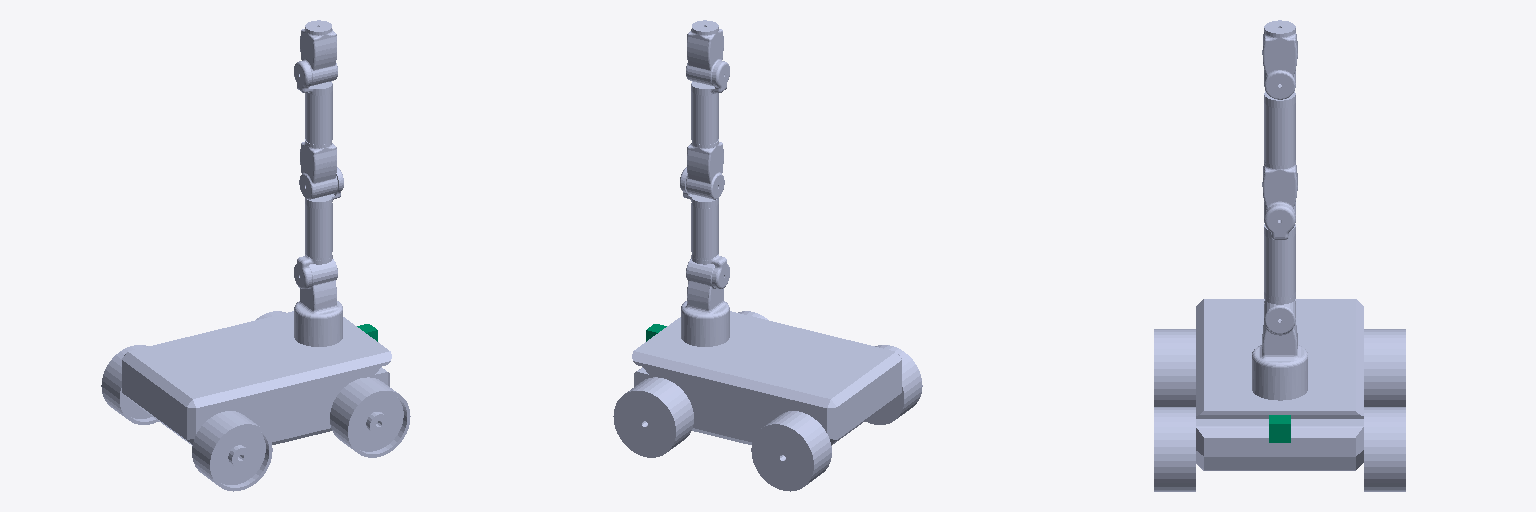
The robot description file, URDF, robot "mobile_manipulator":
<?xml version="1.0"?>

<robot name="mobile_manipulator">
<!--################################# BASE #####################################-->
  <link name="base_link">
    <inertial>
      <origin
        xyz="0.0030946 4.78250032638821E-11 0.053305"
        rpy="0 0 0" />
      <mass
        value="47.873" />
      <inertia
        ixx="0.774276574699151"
        ixy="-1.03781944357671E-10"
        ixz="0.00763014265820928"
        iyy="1.64933255189991"
        iyz="1.09578155845563E-12"
        izz="2.1239326987473" />
    </inertial>
    <visual>
      <origin
        xyz="0 0 0"
        rpy="1.5707963267949 0 3.14" />
      <geometry>
        <mesh filename="package://robot_description/meshes/robot_base.stl" />
      </geometry>
      <material
        name="">
        <color
          rgba="0.79216 0.81961 0.93333 1" />
      </material>
    </visual>
    <collision>
      <origin
        xyz="0 0 0"
        rpy="1.5707963267949 0 3.14" />
      <geometry>
        <mesh filename="package://robot_description/meshes/robot_base.stl" />
      </geometry>
    </collision>
  </link>

<link name="front_left_wheel">
    <inertial>
      <origin
        xyz="-4.1867E-18 0.0068085 -1.65658661799998E-18"
        rpy="0 0 0" />
      <mass
        value="2.6578" />
      <inertia
        ixx="0.00856502765719703"
        ixy="1.5074118157338E-19"
        ixz="-4.78150098725052E-19"
        iyy="0.013670640432096"
        iyz="-2.68136447099727E-19"
        izz="0.00856502765719703" />
    </inertial>
    <visual>
      <origin
        xyz="0 0 0"
        rpy="1.5707963267949 0 0" />
      <geometry>
        <mesh filename="package://robot_description/meshes/wheel.stl" />
      </geometry>
      <material
        name="">
        <color
          rgba="0.79216 0.81961 0.93333 1" />
      </material>
    </visual>
    <collision>
      <origin
        xyz="0 0 0"
        rpy="1.5707963267949 0 0" />
      <geometry>
        <mesh filename="package://robot_description/meshes/wheel.stl" />
      </geometry>
    </collision>
  </link>

<link name="front_right_wheel">
    <inertial>
      <origin
        xyz="-4.1867E-18 0.0068085 -1.65658661799998E-18"
        rpy="0 0 0" />
      <mass
        value="2.6578" />
      <inertia
        ixx="0.00856502765719703"
        ixy="1.5074118157338E-19"
        ixz="-4.78150098725052E-19"
        iyy="0.013670640432096"
        iyz="-2.68136447099727E-19"
        izz="0.00856502765719703" />
    </inertial>
    <visual>
      <origin
        xyz="0 0 0"
        rpy="1.5707963267949 0 0" />
      <geometry>
        <mesh filename="package://robot_description/meshes/wheel.stl" />
      </geometry>
      <material
        name="">
        <color
          rgba="0.79216 0.81961 0.93333 1" />
      </material>
    </visual>
    <collision>
      <origin
        xyz="0 0 0"
        rpy="1.5707963267949 0 0" />
      <geometry>
        <mesh filename="package://robot_description/meshes/wheel.stl" />
      </geometry>
    </collision>
  </link>

<link name="rear_left_wheel">
    <inertial>
      <origin
        xyz="-4.1867E-18 0.0068085 -1.65658661799998E-18"
        rpy="0 0 0" />
      <mass
        value="2.6578" />
      <inertia
        ixx="0.00856502765719703"
        ixy="1.5074118157338E-19"
        ixz="-4.78150098725052E-19"
        iyy="0.013670640432096"
        iyz="-2.68136447099727E-19"
        izz="0.00856502765719703" />
    </inertial>
    <visual>
      <origin
        xyz="0 0 0"
        rpy="1.5707963267949 0 0" />
      <geometry>
        <mesh filename="package://robot_description/meshes/wheel.stl" />
      </geometry>
      <material
        name="">
        <color
          rgba="0.79216 0.81961 0.93333 1" />
      </material>
    </visual>
    <collision>
      <origin
        xyz="0 0 0"
        rpy="1.5707963267949 0 0" />
      <geometry>
        <mesh filename="package://robot_description/meshes/wheel.stl" />
      </geometry>
    </collision>
  </link>

<link name="rear_right_wheel">
    <inertial>
      <origin
        xyz="-4.1867E-18 0.0068085 -1.65658661799998E-18"
        rpy="0 0 0" />
      <mass
        value="2.6578" />
      <inertia
        ixx="0.00856502765719703"
        ixy="1.5074118157338E-19"
        ixz="-4.78150098725052E-19"
        iyy="0.013670640432096"
        iyz="-2.68136447099727E-19"
        izz="0.00856502765719703" />
    </inertial>
    <visual>
      <origin
        xyz="0 0 0"
        rpy="1.5707963267949 0 0" />
      <geometry>
        <mesh filename="package://robot_description/meshes/wheel.stl" />
      </geometry>
      <material
        name="">
        <color
          rgba="0.79216 0.81961 0.93333 1" />
      </material>
    </visual>
    <collision>
      <origin
        xyz="0 0 0"
        rpy="1.5707963267949 0 0" />
      <geometry>
        <mesh filename="package://robot_description/meshes/wheel.stl" />
      </geometry>
    </collision>
  </link>


<joint name="front_left_wheel_joint" type="continuous">
    <axis xyz="0 1 0"/>
    <parent link ="base_link"/>
    <child link ="front_left_wheel"/>
    <origin rpy ="0 0 0" xyz= "0.220 0.250 0"/>
  </joint>


<joint name="front_right_wheel_joint" type="continuous">
    <axis xyz="0 1 0"/>
    <parent link ="base_link"/>
    <child link ="front_right_wheel"/>
    <origin rpy ="0 0 0" xyz= "0.220 -0.250 0"/>
  </joint>

<joint name="rear_left_wheel_joint" type="continuous">
    <axis xyz="0 1 0"/>
    <parent link ="base_link"/>
    <child link ="rear_left_wheel"/>
    <origin rpy ="0 0 0" xyz= "-0.220 0.250 0"/>
  </joint>

<joint name="rear_right_wheel_joint" type="continuous">
    <axis xyz="0 1 0"/>
    <parent link ="base_link"/>
    <child link ="rear_right_wheel"/>
    <origin rpy ="0 0 0" xyz= "-0.220 -0.250 0"/>
</joint>
<!--############################## ARM ########################################-->

 <link name="arm_base">
    <inertial>
      <origin
        xyz="7.7128E-09 -0.063005 -3.01969999961422E-08"
        rpy="0 0 0" />
      <mass
        value="1.6004" />
      <inertia
        ixx="0.00552196561445819"
        ixy="7.9550614501301E-10"
        ixz="-1.34378458924839E-09"
        iyy="0.00352397447953875"
        iyz="-1.10071809773382E-08"
        izz="0.00553739792746489" />
    </inertial>
    <visual>
      <origin
        xyz="0 0 0"
        rpy="0 0 0" />
      <geometry>
        <mesh filename="package://robot_description/meshes/arm_base.stl" />
      </geometry>
      <material
        name="">
        <color
          rgba="0.79216 0.81961 0.93333 1" />
      </material>
    </visual>
    <collision>
      <origin
        xyz="0 0 0"
        rpy="0 0 0" />
      <geometry>
        <mesh filename="package://robot_description/meshes/arm_base.stl" />
      </geometry>
    </collision>
</link>

<link
    name="bicep">
    <inertial>
      <origin
        xyz="0.12821 3.5589E-06 0.052492"
        rpy="0 0 0" />
      <mass
        value="1.1198" />
      <inertia
        ixx="0.0012474"
        ixy="-5.4004E-07"
        ixz="-0.0013148"
        iyy="0.0072923"
        iyz="-1.8586E-07"
        izz="0.0068178" />
    </inertial>
    <visual>
      <origin
        xyz="0 0 0"
        rpy="0 -1.5708 0" />
      <geometry>
        <mesh filename="package://robot_description/meshes/bicep.stl" />
      </geometry>
      <material
        name="">
        <color
          rgba="0.79216 0.81961 0.93333 1" />
      </material>
    </visual>
    <collision>
      <origin
        xyz="0 0 0"
        rpy="0 -1.5708 0" />
      <geometry>
        <mesh filename="package://robot_description/meshes/bicep.stl" />
      </geometry>
    </collision>
  </link>


  <link
    name="bottom_wrist">
    <inertial>
      <origin
        xyz="-9.1053E-08 -0.069257 -1.86629999995759E-07"
        rpy="0 0 0" />
      <mass
        value="0.27721" />
      <inertia
        ixx="0.00104290750143942"
        ixy="4.37155302268076E-09"
        ixz="-2.45049603914627E-09"
        iyy="0.000380518373895034"
        iyz="-7.56009835172156E-09"
        izz="0.00106006525067445" />
    </inertial>
    <visual>
      <origin
        xyz="0 0 0.13522"
        rpy="3.14 0 1.5708" />
      <geometry>
        <mesh filename="package://robot_description/meshes/wrist.stl" />
      </geometry>
      <material
        name="">
        <color
          rgba="0.79216 0.81961 0.93333 1" />
      </material>
    </visual>
    <collision>
      <origin
        xyz="0 0 0.13522"
        rpy="3.14 0 1.5708" />
      <geometry>
        <mesh filename="package://robot_description/meshes/wrist.stl" />
      </geometry>
    </collision>
  </link>

 <link
    name="elbow">
    <inertial>
      <origin
        xyz="-0.11109 1.1476E-08 0.046469"
        rpy="0 0 0" />
      <mass
        value="0.84845" />
      <inertia
        ixx="0.00079656"
        ixy="-7.8011E-10"
        ixz="0.00053616"
        iyy="0.003576"
        iyz="4.6326E-10"
        izz="0.0033698" />
    </inertial>
    <visual>
      <origin
        xyz="0.0 0.05163 0.20994"
        rpy="0 -1.5708 0" />
      <geometry>
        <mesh filename="package://robot_description/meshes/elbow.stl" />
      </geometry>
      <material
        name="">
        <color
          rgba="0.79216 0.81961 0.93333 1" />
      </material>
    </visual>
    <collision>
      <origin
        xyz="0.0 0.05163 0.20994"
        rpy="0 -1.5708 0" />
      <geometry>
        <mesh filename="package://robot_description/meshes/elbow.stl" />
      </geometry>
    </collision>
  </link>

<link
    name="top_wrist">
    <inertial>
      <origin
        xyz="-9.1053E-08 -0.069257 -1.86629999995759E-07"
        rpy="0 0 0" />
      <mass
        value="0.27721" />
      <inertia
        ixx="0.00104290750143942"
        ixy="4.37155302268076E-09"
        ixz="-2.45049603914627E-09"
        iyy="0.000380518373895034"
        iyz="-7.56009835172156E-09"
        izz="0.00106006525067445" />
    </inertial>
    <visual>
      <origin
        xyz="0 0 0.13522"
        rpy="3.14 0 1.5708" />
      <geometry>
        <mesh filename="package://robot_description/meshes/wrist.stl" />
      </geometry>
      <material
        name="">
        <color
          rgba="0.79216 0.81961 0.93333 1" />
      </material>
    </visual>
    <collision>
      <origin
        xyz="0 0 0.13522"
        rpy="3.14 0 1.5708" />
      <geometry>
        <mesh filename="package://robot_description/meshes/wrist.stl" />
      </geometry>
    </collision>
  </link>

<joint name="arm_base_joint" type="continuous">
  <axis xyz="0 0 1"/>
  <parent link="base_link"/>
  <child link="arm_base"/>
  <origin rpy="0 0 0" xyz="0.20 0.0 0.145"/>
</joint>

<joint name="shoulder_joint" type="continuous">
  <axis xyz="0 1 0"/>
  <parent link="arm_base"/>
  <child link="bicep"/>
  <origin rpy="0 0 1.5708" xyz="-0.05166 0.0 0.20271"/>
</joint>

<joint name="bottom_wrist_joint" type="continuous">
  <axis xyz="0 1 0"/>
  <parent link="bicep"/>
  <child link="bottom_wrist"/>
  <origin rpy="0 0 0" xyz="0.0 -0.05194 0.269"/>
</joint>

<joint name="elbow_joint" type="continuous">
  <axis xyz="0 0 1"/>
  <parent link="bottom_wrist"/>
  <child link="elbow"/>
  <origin rpy="0 0 0" xyz="0.0 0 0.13522"/>
</joint>

<joint name="top_wrist_joint" type="continuous">
  <axis xyz="0 1 0"/>
  <parent link="elbow"/>
  <child link="top_wrist"/>
  <origin rpy="0 0 0" xyz="0.0 0 0.20994"/>
</joint>

<!--########################## SENSORS ############################################-->

<link name="laser_link">
  <collision>
   <origin xyz="0 0 0" rpy="0 0 0"/>
   <geometry>
    <box size="0.1 0.1 0.1"/>
   </geometry>
  </collision>
  <visual>
   <origin xyz="0 0 0" rpy="0 0 0"/>
    <geometry>
     <box size="0.05 0.05 0.05"/>
    </geometry>
  </visual>
  <inertial>
    <mass value="1e-5" />
    <origin xyz="0 0 0" rpy="0 0 0"/>
    <inertia ixx="1e-6" ixy="0" ixz="0" iyy="1e-6" iyz="0" izz="1e-6" />
  </inertial>
</link>

<joint name="laser_joint" type="fixed">
<axis xyz="0 1 0" />
<origin xyz="0.350 0 0.115" rpy="0 0 0"/>
<parent link="base_link"/>
<child link="laser_link"/>
</joint>

<gazebo reference="laser_link">
	<sensor type="ray" name="laser">
		<pose>0 0 0 0 0 0</pose>
		<visualize>true</visualize>
		<update_rate>40</update_rate>
		<ray>
			<scan>
				<horizontal>
				<samples>720</samples>
				<resolution>1</resolution>
				<min_angle>-1.570796</min_angle>
				<max_angle>1.570796</max_angle>
				</horizontal>
			</scan>
			<range>
				<min>0.10</min>
				<max>30.0</max>
				<resolution>0.01</resolution>
			</range>
		</ray>
		<plugin name="gazebo_ros_head_hokuyo_controller" filename="libgazebo_ros_laser.so">
		  <topicName>/scan</topicName>
		  <frameName>laser_link</frameName>
		</plugin>
	</sensor>
</gazebo>

<!--###############################################################################-->

<!--########################## BASE TRANSMISSIONS ############################################-->
<transmission name="front_left_wheel_trans" type="SimpleTransmission">
  <type>transmission_interface/SimpleTransmission</type>
  <actuator name="front_left_wheel_motor">
   <hardwareInterface>hardware_interface/VelocityJointInterface</hardwareInterface>
   <mechanicalReduction>1</mechanicalReduction>
  </actuator>
  <joint name="front_left_wheel_joint">
   <hardwareInterface>hardware_interface/VelocityJointInterface</hardwareInterface>
  </joint>
</transmission>

<transmission name="front_right_wheel_trans" type="SimpleTransmission">
  <type>transmission_interface/SimpleTransmission</type>
  <actuator name="front_right_wheel_motor">
   <hardwareInterface>hardware_interface/VelocityJointInterface</hardwareInterface>
   <mechanicalReduction>1</mechanicalReduction>
  </actuator>
  <joint name="front_right_wheel_joint">
   <hardwareInterface>hardware_interface/VelocityJointInterface</hardwareInterface>
  </joint>
</transmission>

<transmission name="rear_left_wheel_trans" type="SimpleTransmission">
  <type>transmission_interface/SimpleTransmission</type>
  <actuator name="rear_left_wheel_motor">
   <hardwareInterface>hardware_interface/VelocityJointInterface</hardwareInterface>
   <mechanicalReduction>1</mechanicalReduction>
  </actuator>
  <joint name="rear_left_wheel_joint">
   <hardwareInterface>hardware_interface/VelocityJointInterface</hardwareInterface>
  </joint>
</transmission>

<transmission name="rear_right_wheel_trans" type="SimpleTransmission">
  <type>transmission_interface/SimpleTransmission</type>
  <actuator name="rear_right_wheel_motor">
   <hardwareInterface>hardware_interface/VelocityJointInterface</hardwareInterface>
   <mechanicalReduction>1</mechanicalReduction>
  </actuator>
  <joint name="rear_right_wheel_joint">
   <hardwareInterface>hardware_interface/VelocityJointInterface</hardwareInterface>
  </joint>
</transmission>
<!--################################ ARM TRANSIMISSIONS ######################################-->
<transmission name="arm_base_trans" type="SimpleTransmission">
  <type>transmission_interface/SimpleTransmission</type>
  <actuator name="arm_base_motor">
   <hardwareInterface>hardware_interface/PositionJointInterface</hardwareInterface>
   <mechanicalReduction>1</mechanicalReduction>
  </actuator>
  <joint name="arm_base_joint">
   <hardwareInterface>hardware_interface/PositionJointInterface</hardwareInterface>
  </joint>
</transmission>

<transmission name="shoulder_trans" type="SimpleTransmission">
  <type>transmission_interface/SimpleTransmission</type>
  <actuator name="shoulder_motor">
   <hardwareInterface>hardware_interface/PositionJointInterface</hardwareInterface>
   <mechanicalReduction>1</mechanicalReduction>
  </actuator>
  <joint name="shoulder_joint">
   <hardwareInterface>hardware_interface/PositionJointInterface</hardwareInterface>
  </joint>
</transmission>

<transmission name="bottom_wrist_trans" type="SimpleTransmission">
  <type>transmission_interface/SimpleTransmission</type>
  <actuator name="bottom_wrist_motor">
   <hardwareInterface>hardware_interface/PositionJointInterface</hardwareInterface>
   <mechanicalReduction>1</mechanicalReduction>
  </actuator>
  <joint name="bottom_wrist_joint">
   <hardwareInterface>hardware_interface/PositionJointInterface</hardwareInterface>
  </joint>
</transmission>

<transmission name="elbow_trans" type="SimpleTransmission">
  <type>transmission_interface/SimpleTransmission</type>
  <actuator name="elbow_motor">
   <hardwareInterface>hardware_interface/PositionJointInterface</hardwareInterface>
   <mechanicalReduction>1</mechanicalReduction>
  </actuator>
  <joint name="elbow_joint">
   <hardwareInterface>hardware_interface/PositionJointInterface</hardwareInterface>
  </joint>
</transmission>

<transmission name="top_wrist_trans" type="SimpleTransmission">
  <type>transmission_interface/SimpleTransmission</type>
  <actuator name="top_wrist_motor">
   <hardwareInterface>hardware_interface/PositionJointInterface</hardwareInterface>
   <mechanicalReduction>1</mechanicalReduction>
  </actuator>
  <joint name="top_wrist_joint">
   <hardwareInterface>hardware_interface/PositionJointInterface</hardwareInterface>
  </joint>
</transmission>

<!--######################################################################-->
<gazebo>
    <plugin name="gazebo_ros_control" filename="libgazebo_ros_control.so">
      <robotNamespace>/</robotNamespace>
      <controlPeriod>0.001</controlPeriod>
      <legacyModeNS>false</legacyModeNS>
    </plugin>
  </gazebo>
<!--######################################################################-->
  <gazebo>
    <plugin name="joint_state_publisher" filename="libgazebo_ros_joint_state_publisher.so">
      <jointName>arm_base_joint, shoulder_joint, bottom_wrist_joint, elbow_joint, bottom_wrist_joint</jointName>
    </plugin>
  </gazebo>
<!--######################################################################-->

<!--######################################################################-->
<gazebo>
      <plugin name="diff_drive_controller" filename="libgazebo_ros_diff_drive.so">
        <legacyMode>false</legacyMode>
        <alwaysOn>true</alwaysOn>
        <updateRate>1000.0</updateRate>
        <leftJoint>front_left_wheel_joint, rear_left_wheel_joint</leftJoint>
        <rightJoint>front_right_wheel_joint, rear_right_wheel_joint</rightJoint>
        <wheelSeparation>0.5</wheelSeparation>
        <wheelDiameter>0.2</wheelDiameter>
        <wheelTorque>10</wheelTorque>
        <publishTf>1</publishTf>
        <odometryFrame>map</odometryFrame>
        <commandTopic>cmd_vel</commandTopic>
        <odometryTopic>odom</odometryTopic>
        <robotBaseFrame>base_link</robotBaseFrame>
        <wheelAcceleration>2.8</wheelAcceleration>
        <publishWheelJointState>true</publishWheelJointState>
        <publishWheelTF>false</publishWheelTF>
        <odometrySource>world</odometrySource>
        <rosDebugLevel>Debug</rosDebugLevel>
      </plugin>
</gazebo>
<!--######################################################################-->
<gazebo reference="front_left_wheel">
 <mu1 value="1.0"/>
 <mu2 value="1.0"/>
 <kp value="10000000.0" />
 <kd value="1.0" />
 <fdir1 value="1 0 0"/>
</gazebo>

<gazebo reference="front_right_wheel">
 <mu1 value="1.0"/>
 <mu2 value="1.0"/>
 <kp value="10000000.0" />
 <kd value="1.0" />
 <fdir1 value="1 0 0"/>
</gazebo>

<gazebo reference="rear_left_wheel">
 <mu1 value="1.0"/>
 <mu2 value="1.0"/>
 <kp value="10000000.0" />
 <kd value="1.0" />
 <fdir1 value="1 0 0"/>
</gazebo>

<gazebo reference="rear_left_wheel">
 <mu1 value="1.0"/>
 <mu2 value="1.0"/>
 <kp value="10000000.0" />
 <kd value="1.0" />
 <fdir1 value="1 0 0"/>
</gazebo>
<!--######################################################################-->

</robot>

--- What the picture shows (computed from the rendered views, not written in the file) ---
The picture shows the robot from 3 angles, left to right: view 1: azimuth 30°, elevation 25°; view 2: azimuth 150°, elevation 25°; view 3: azimuth 270°, elevation 25°; orthographic projection.
Robot: mobile_manipulator — 11 links, 10 joints (9 continuous, 1 fixed); root link base_link; default pose: all joints at 0.
Links seen in each view (by area): view 1: base_link, rear_right_wheel, front_right_wheel, arm_base, bicep, elbow, bottom_wrist, top_wrist, rear_left_wheel; view 2: base_link, front_left_wheel, rear_left_wheel, arm_base, bicep, elbow, bottom_wrist, top_wrist, rear_right_wheel; view 3: base_link, arm_base, front_left_wheel, front_right_wheel, rear_left_wheel, rear_right_wheel, bicep, top_wrist, elbow, bottom_wrist, laser_link.
Link boxes in pixels (x1=…): base_link: x1=122, y1=311, x2=391, y2=445; rear_right_wheel: x1=192, y1=411, x2=272, y2=491; front_right_wheel: x1=330, y1=377, x2=410, y2=457; arm_base: x1=294, y1=259, x2=342, y2=346; bicep: x1=294, y1=167, x2=343, y2=288; elbow: x1=294, y1=61, x2=332, y2=144; bottom_wrist: x1=299, y1=139, x2=337, y2=199; top_wrist: x1=300, y1=20, x2=337, y2=85; rear_left_wheel: x1=101, y1=345, x2=158, y2=424; base_link: x1=632, y1=311, x2=901, y2=445; front_left_wheel: x1=613, y1=377, x2=693, y2=457; rear_left_wheel: x1=751, y1=411, x2=831, y2=491; arm_base: x1=681, y1=259, x2=729, y2=346; bicep: x1=680, y1=167, x2=729, y2=288; elbow: x1=691, y1=61, x2=729, y2=144; bottom_wrist: x1=686, y1=139, x2=724, y2=199; top_wrist: x1=686, y1=20, x2=723, y2=85; rear_right_wheel: x1=865, y1=345, x2=922, y2=424; base_link: x1=1196, y1=299, x2=1363, y2=470; arm_base: x1=1252, y1=301, x2=1307, y2=400; front_left_wheel: x1=1364, y1=407, x2=1405, y2=491; front_right_wheel: x1=1154, y1=407, x2=1195, y2=491; rear_left_wheel: x1=1364, y1=329, x2=1405, y2=406; rear_right_wheel: x1=1154, y1=329, x2=1195, y2=406; bicep: x1=1264, y1=204, x2=1295, y2=304; top_wrist: x1=1262, y1=20, x2=1297, y2=99; elbow: x1=1264, y1=91, x2=1295, y2=165; bottom_wrist: x1=1262, y1=160, x2=1297, y2=215; laser_link: x1=1269, y1=415, x2=1290, y2=442.
Bounding box of the posed robot: 0.7003 × 0.6 × 1.2 m (x, y, z).
10 mesh visuals loaded from 6 distinct referenced files (6 binary STL).
